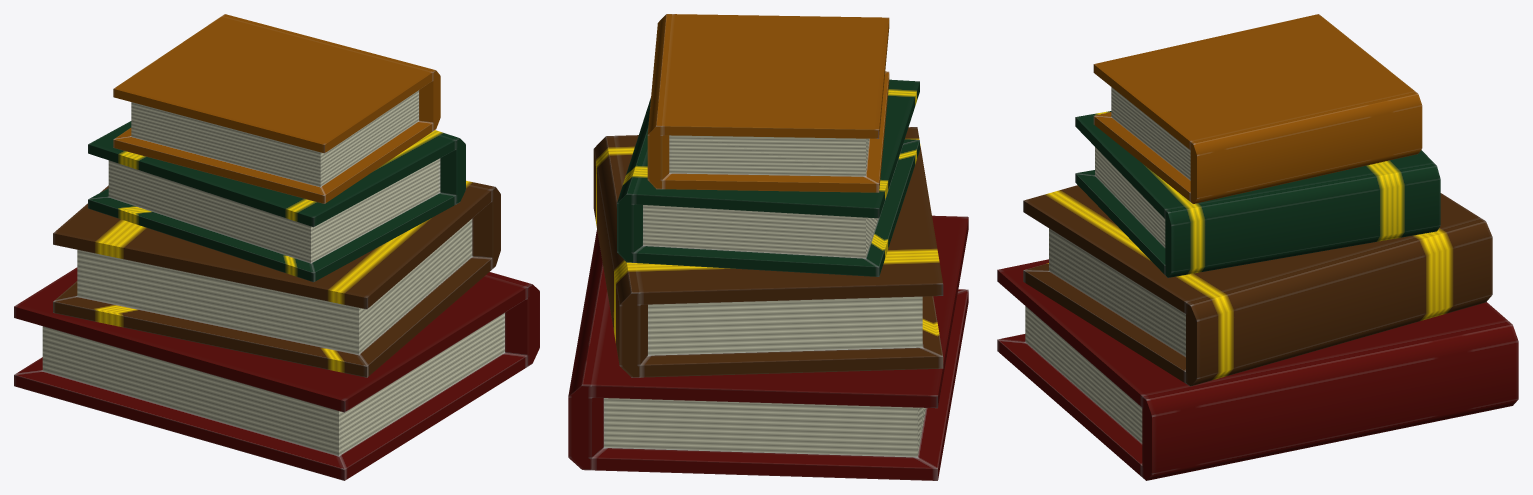
File: bookstack2.fbx
The picture shows the model from 3 angles, left to right: view 1: azimuth 30°, elevation 25°; view 2: azimuth 150°, elevation 25°; view 3: azimuth 270°, elevation 25°; orthographic projection. The views are drawn at different scales.
Visible parts, largest first — view 1: book93, book94, book96, book95; view 2: book93, book94, book96, book95; view 3: book93, book94, book96, book95.
Part boxes in pixels (left/top/right/bottom): book93: left=14, top=267, right=539, bottom=480; book94: left=53, top=180, right=500, bottom=377; book96: left=113, top=14, right=440, bottom=203; book95: left=88, top=121, right=465, bottom=282; book93: left=568, top=215, right=968, bottom=480; book94: left=593, top=127, right=943, bottom=377; book96: left=647, top=14, right=889, bottom=192; book95: left=617, top=79, right=919, bottom=276; book93: left=997, top=259, right=1518, bottom=480; book94: left=1023, top=185, right=1492, bottom=386; book96: left=1093, top=14, right=1422, bottom=203; book95: left=1075, top=111, right=1440, bottom=277.
Bounding box in the file's own units: 5.28 × 3.52 × 5.54.
